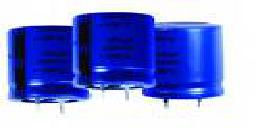Electrolytic-Capacitor: (72, 9, 156, 103), (5, 25, 89, 113), (158, 22, 233, 114)
